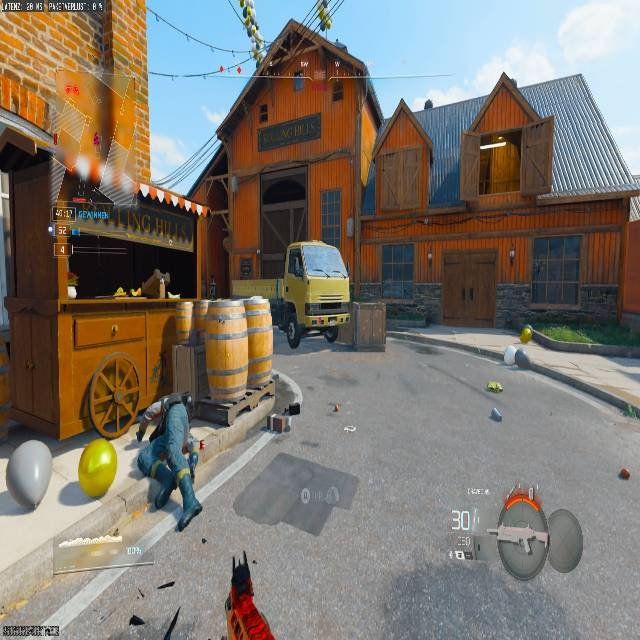head: (78, 351, 142, 435)
